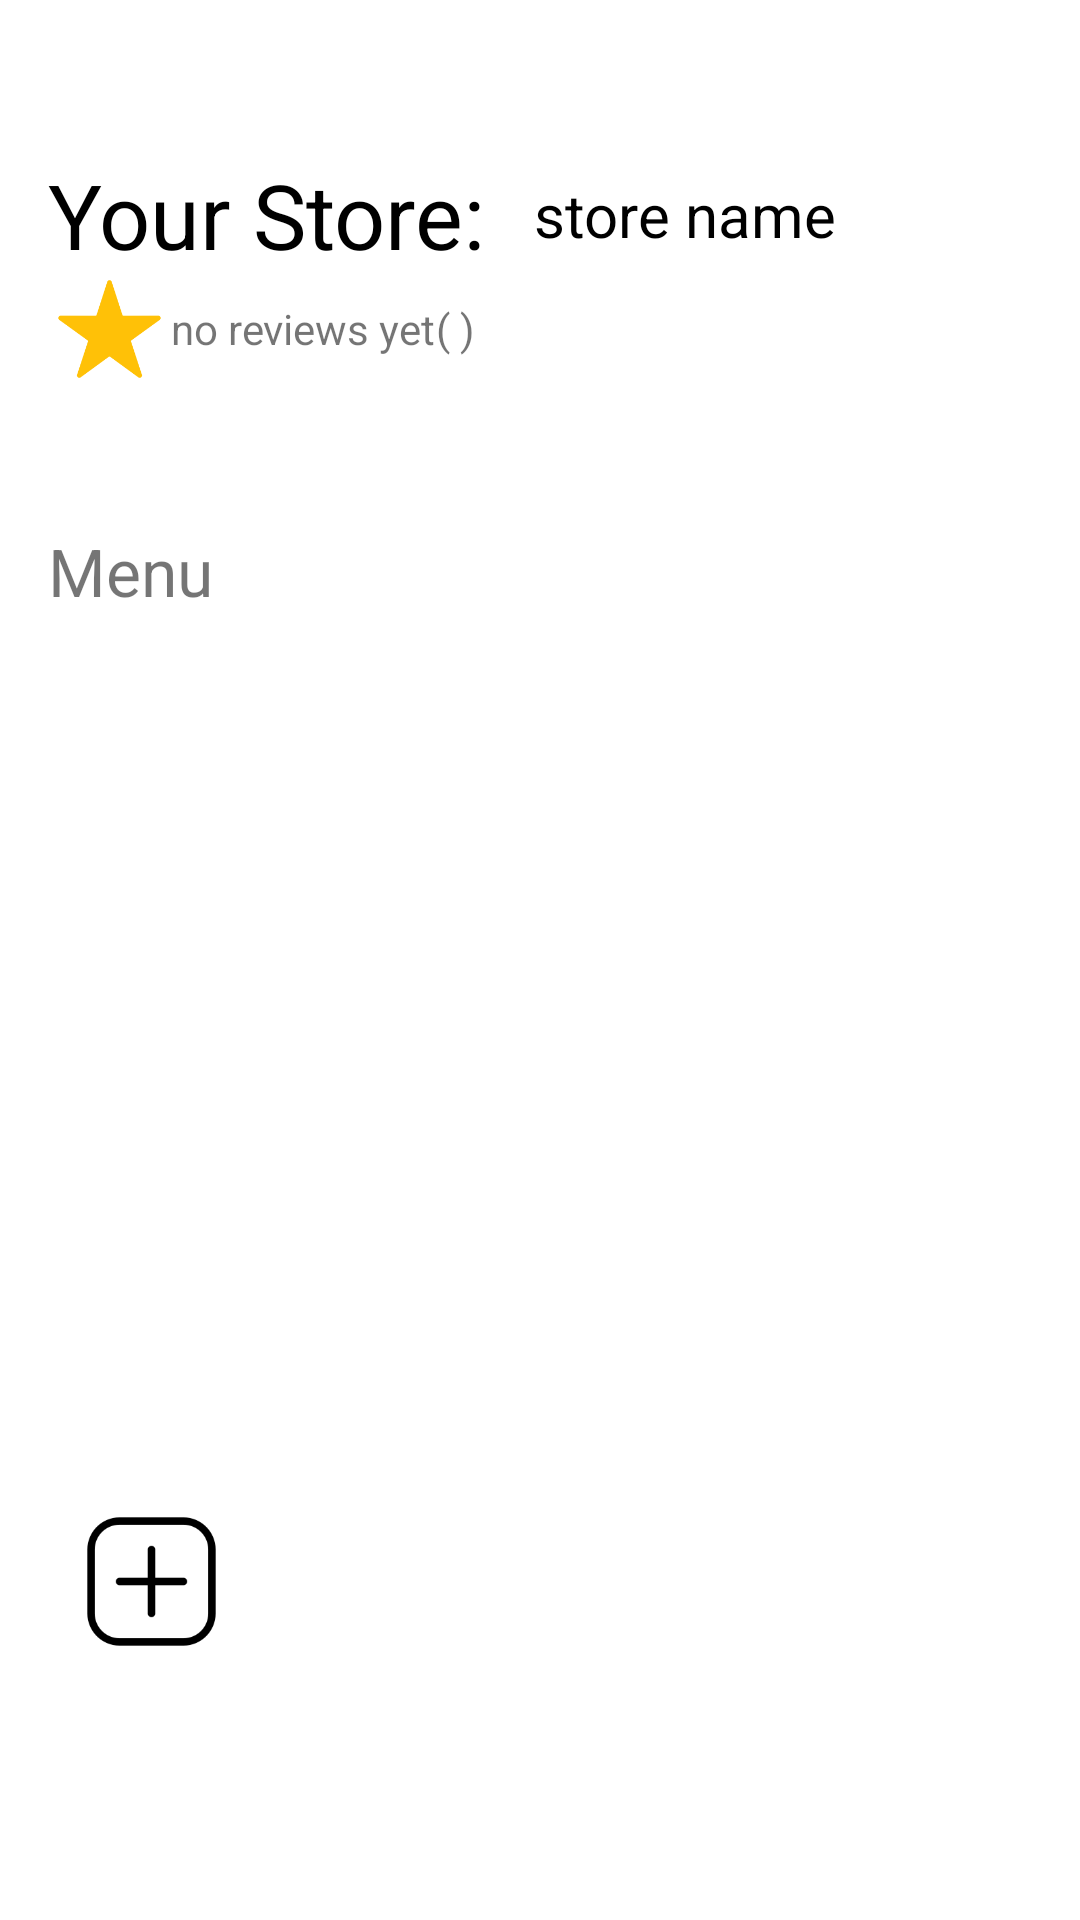

Where icons sit on this 1080*1920 app screen, as (x1, y1, x2, y2):
add: (87, 1517, 216, 1646)
star: (58, 280, 161, 378)
